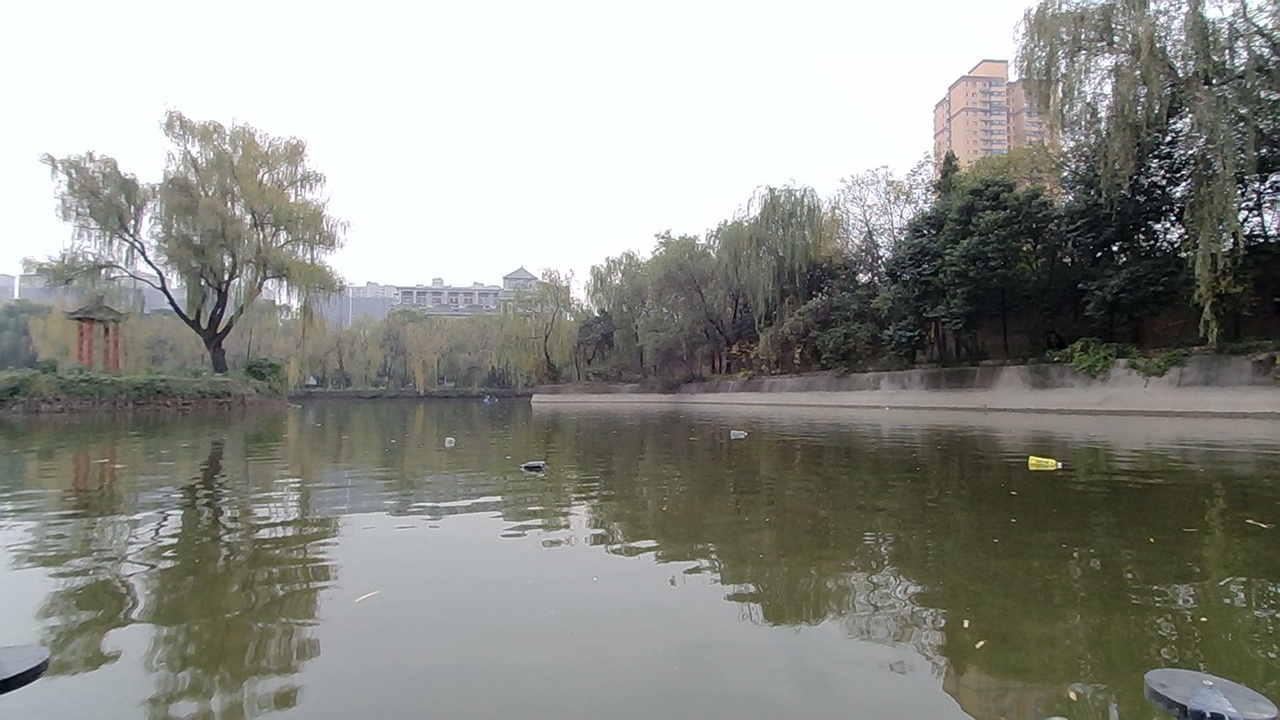bottle: (513, 446, 562, 487), (439, 419, 474, 457), (1026, 445, 1059, 479), (716, 417, 753, 440)
